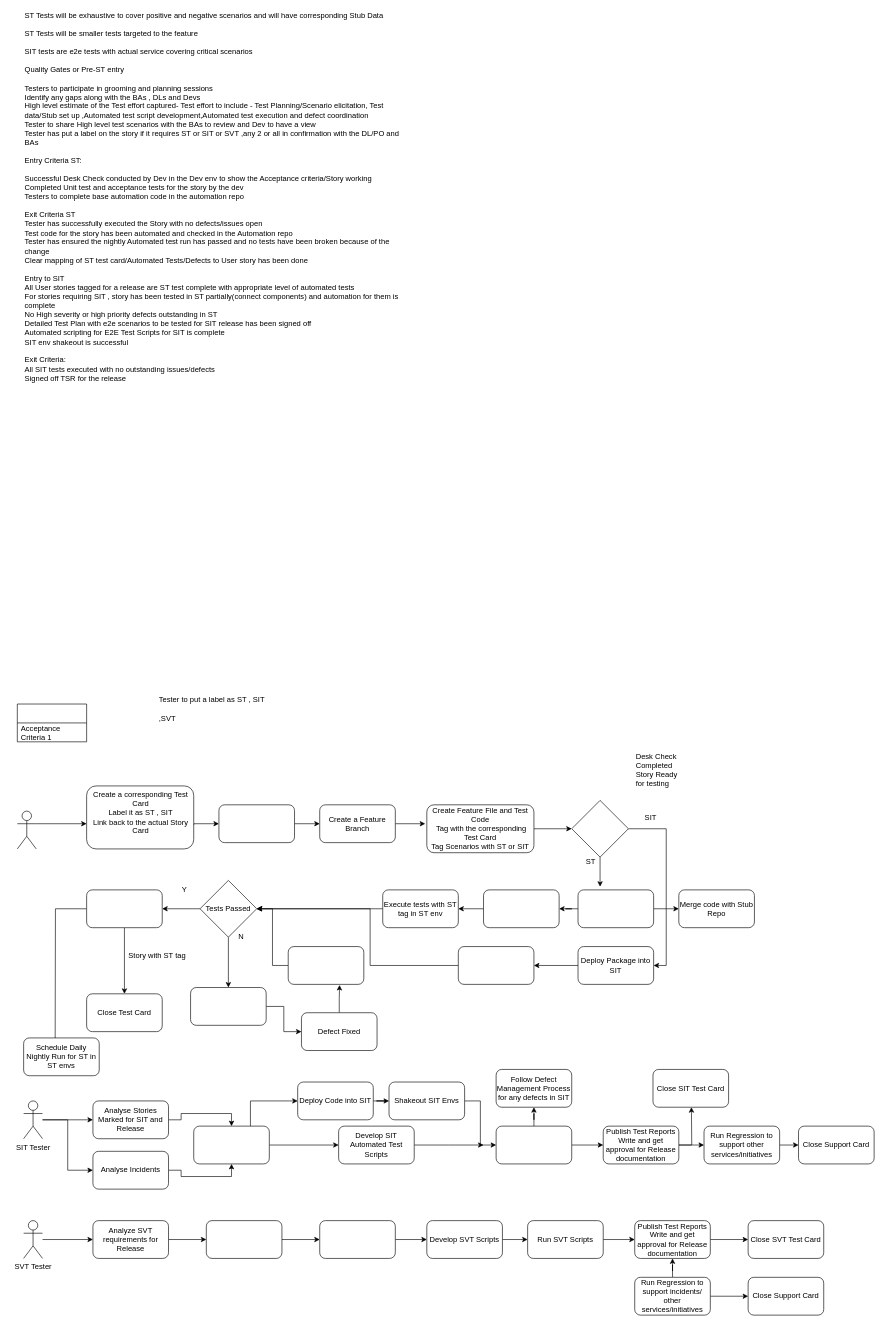
Image size: 885x1326. Some labels were removed from this diagram. The box of each missing label's shape, as (x1, y1, x2, y2) in pixels:
Create/Reopen Defect and ensure linking back to JIRA Story: (190, 987, 266, 1025)
Deploy Code into ST: (483, 889, 559, 928)
Execute Failed Tests: (288, 946, 364, 984)
Execute tests with SIT tag in SIT env: (458, 946, 534, 984)
Merge Automation Code feature branch into Develop: (86, 889, 162, 928)
Run progression and regression test Execution: (495, 1125, 572, 1164)
Set up Backend Mocks/Stubs: (577, 889, 654, 928)
Set Up test Data/Stub Data: (319, 1220, 395, 1258)
ST Tester: (17, 810, 36, 849)
Tag: (571, 800, 628, 857)
User Story: (17, 703, 87, 742)
Write High Level Test Scenarios: (218, 804, 295, 843)
Write SIT Test Plan and Scenarios: (193, 1125, 269, 1164)
Write SVT Test Plan/Strategy: (206, 1220, 282, 1258)
